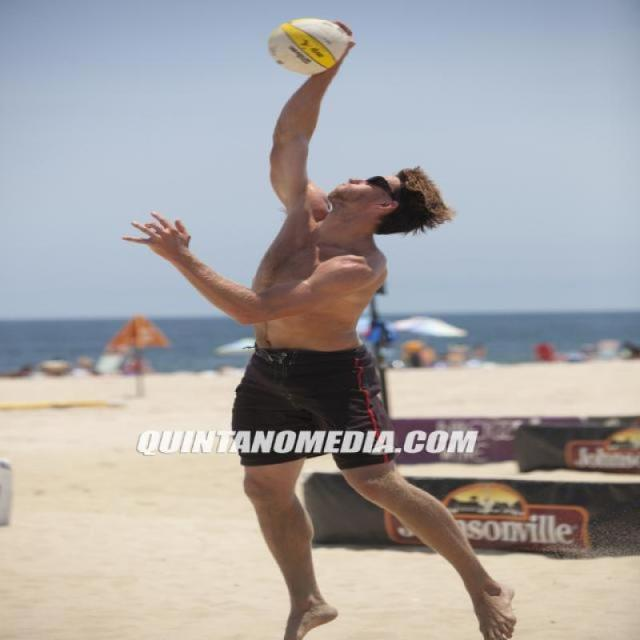volleyball: (264, 15, 354, 76)
